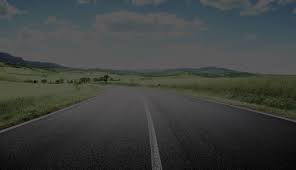strada: (0, 87, 296, 167)
